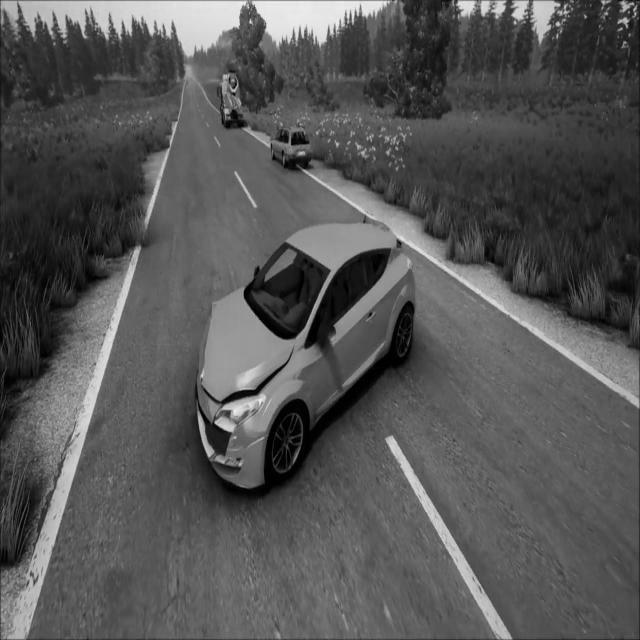moderate: (190, 216, 421, 502)
